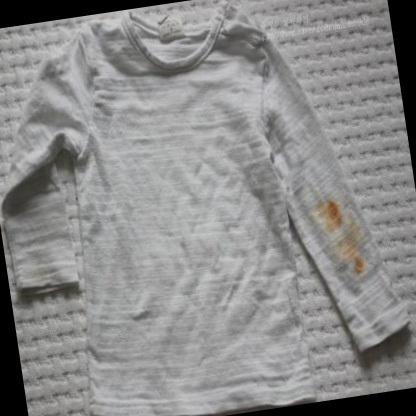kimchi: (309, 187, 377, 284), (320, 196, 346, 226), (353, 250, 375, 278)
